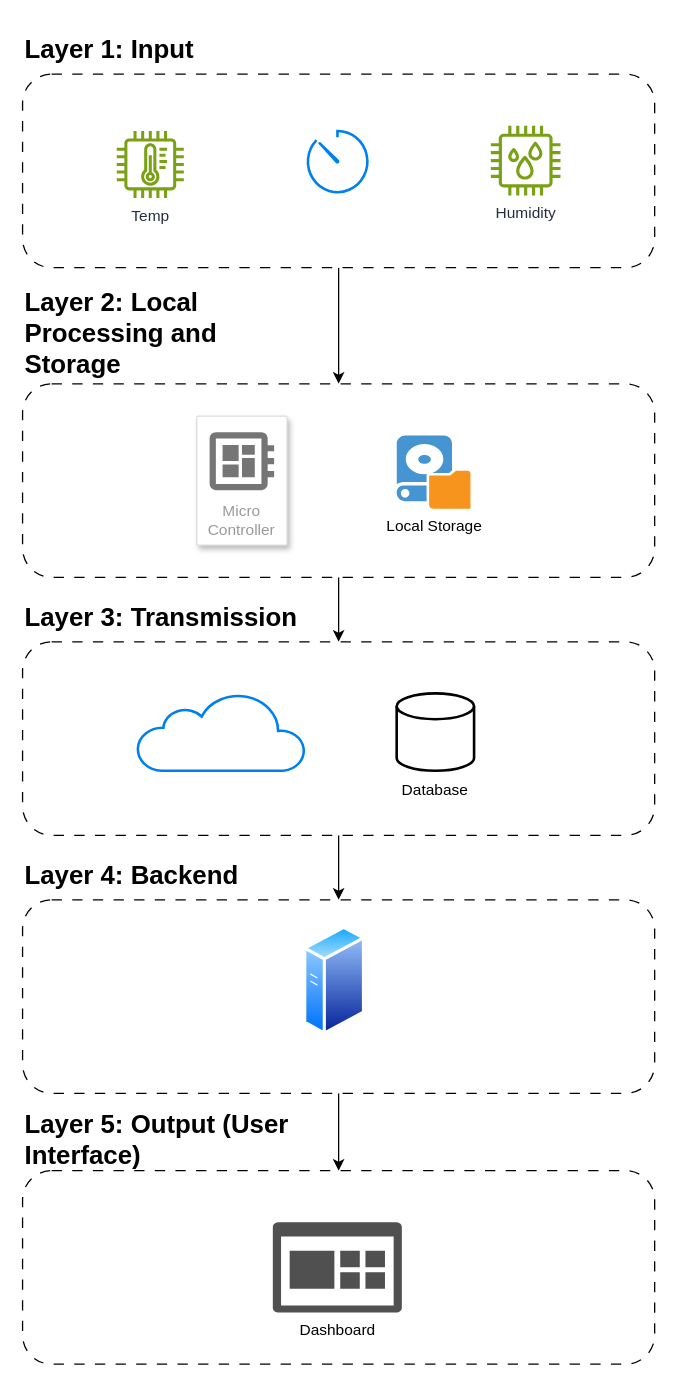
This 677x1387 diagram has some shape labels left out. Each missing label, with the centre of its shape:
"Cloud" belongs at point (220, 731).
"Rain Gauge" belongs at point (336, 162).
"Server" belongs at point (334, 980).
